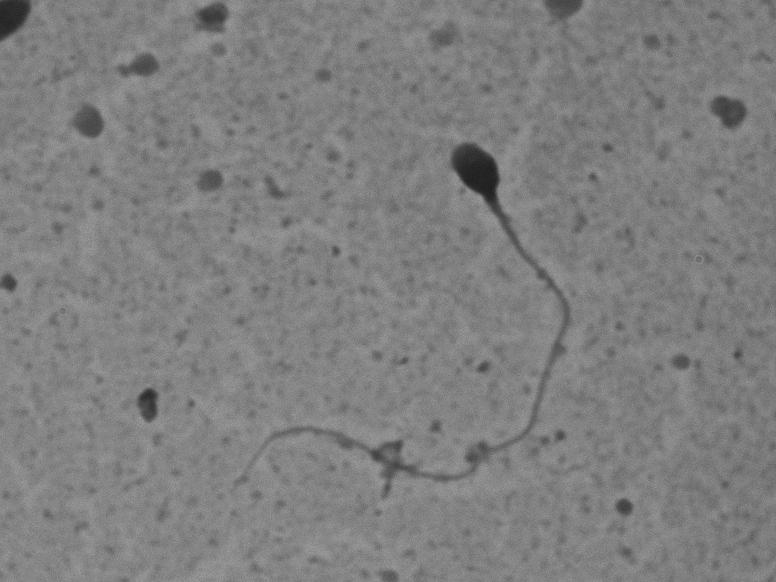Abnormal: (213, 101, 597, 527)
